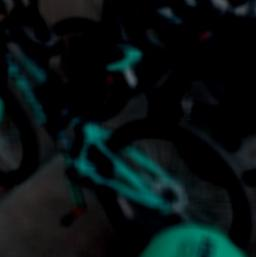algae: (136, 225, 256, 257)
